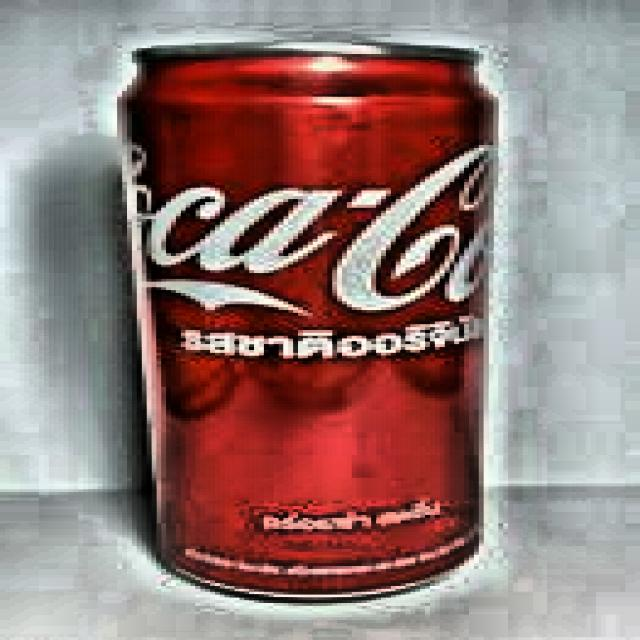Cans: (75, 29, 519, 608)
